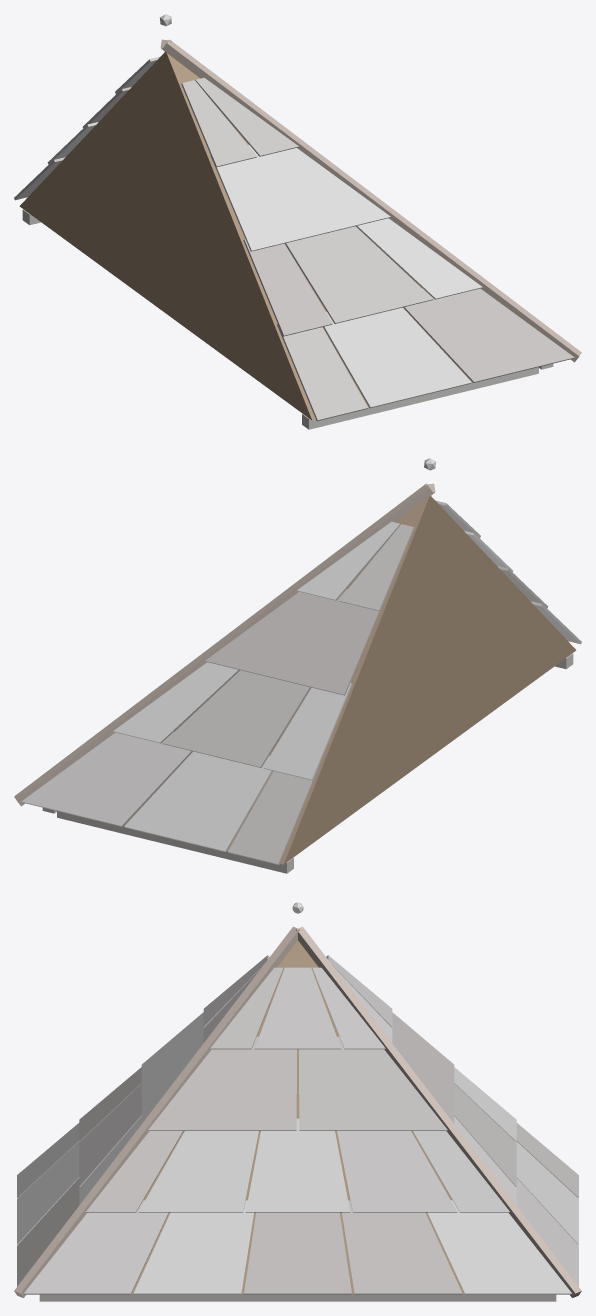
Rendered from Kit_RealKeep_RoofB_Fractured.fbx.
3 renders of one model, top to bottom at view 1: azimuth 30°, elevation 25°; view 2: azimuth 150°, elevation 25°; view 3: azimuth 270°, elevation 25°, orthographic. The views are drawn at different scales.
Parts seen in each view (by area): view 1: Kit_RealKeep_RoofB_frag_04, Kit_RealKeep_RoofB_frag_07, Kit_RealKeep_RoofB_frag_01, Kit_RealKeep_RoofB_frag_10, Kit_RealKeep_RoofB_frag_13, Kit_RealKeep_RoofB_frag_03, Kit_RealKeep_RoofB_frag_02, Kit_RealKeep_RoofB_frag_05, Kit_RealKeep_RoofB_frag_15; view 2: Kit_RealKeep_RoofB_frag_10, Kit_RealKeep_RoofB_frag_13, Kit_RealKeep_RoofB_frag_07, Kit_RealKeep_RoofB_frag_15, Kit_RealKeep_RoofB_frag_16, Kit_RealKeep_RoofB_frag_04, Kit_RealKeep_RoofB_frag_14, Kit_RealKeep_RoofB_frag_01; view 3: Kit_RealKeep_RoofB_frag_07, Kit_RealKeep_RoofB_frag_11, Kit_RealKeep_RoofB_frag_10, Kit_RealKeep_RoofB_frag_06, Kit_RealKeep_RoofB_frag_05, Kit_RealKeep_RoofB_frag_16, Kit_RealKeep_RoofB_frag_12, Kit_RealKeep_RoofB_frag_09, Kit_RealKeep_RoofB_frag_03, Kit_RealKeep_RoofB_frag_04, Kit_RealKeep_RoofB_frag_14, Kit_RealKeep_RoofB_frag_01 (+3 smaller).
Part boxes in pixels (x1,y1,x2,y2): Kit_RealKeep_RoofB_frag_04: (210, 145, 433, 384); Kit_RealKeep_RoofB_frag_07: (115, 14, 396, 348); Kit_RealKeep_RoofB_frag_01: (263, 284, 471, 429); Kit_RealKeep_RoofB_frag_10: (82, 52, 165, 312); Kit_RealKeep_RoofB_frag_13: (47, 104, 116, 276); Kit_RealKeep_RoofB_frag_03: (442, 246, 581, 391); Kit_RealKeep_RoofB_frag_02: (396, 264, 505, 382); Kit_RealKeep_RoofB_frag_05: (356, 209, 482, 299); Kit_RealKeep_RoofB_frag_15: (14, 155, 67, 241); Kit_RealKeep_RoofB_frag_10: (205, 497, 429, 793); Kit_RealKeep_RoofB_frag_13: (162, 619, 380, 828); Kit_RealKeep_RoofB_frag_07: (289, 458, 480, 757); Kit_RealKeep_RoofB_frag_15: (124, 731, 331, 873); Kit_RealKeep_RoofB_frag_16: (14, 690, 209, 854); Kit_RealKeep_RoofB_frag_04: (464, 530, 548, 721); Kit_RealKeep_RoofB_frag_14: (113, 623, 249, 743); Kit_RealKeep_RoofB_frag_01: (527, 598, 581, 686); Kit_RealKeep_RoofB_frag_07: (141, 902, 396, 1136); Kit_RealKeep_RoofB_frag_11: (245, 1118, 457, 1217); Kit_RealKeep_RoofB_frag_10: (299, 942, 454, 1131); Kit_RealKeep_RoofB_frag_06: (99, 1200, 254, 1301); Kit_RealKeep_RoofB_frag_05: (79, 1116, 258, 1217); Kit_RealKeep_RoofB_frag_16: (427, 1169, 581, 1301); Kit_RealKeep_RoofB_frag_12: (299, 1200, 471, 1301); Kit_RealKeep_RoofB_frag_09: (213, 1176, 351, 1301); Kit_RealKeep_RoofB_frag_03: (14, 1169, 126, 1301); Kit_RealKeep_RoofB_frag_04: (79, 1012, 204, 1186); Kit_RealKeep_RoofB_frag_14: (411, 1085, 516, 1293); Kit_RealKeep_RoofB_frag_01: (17, 1123, 79, 1244).
Size of what is drawn, in the model's own units: 3.2 by 3.5 by 6.27.
